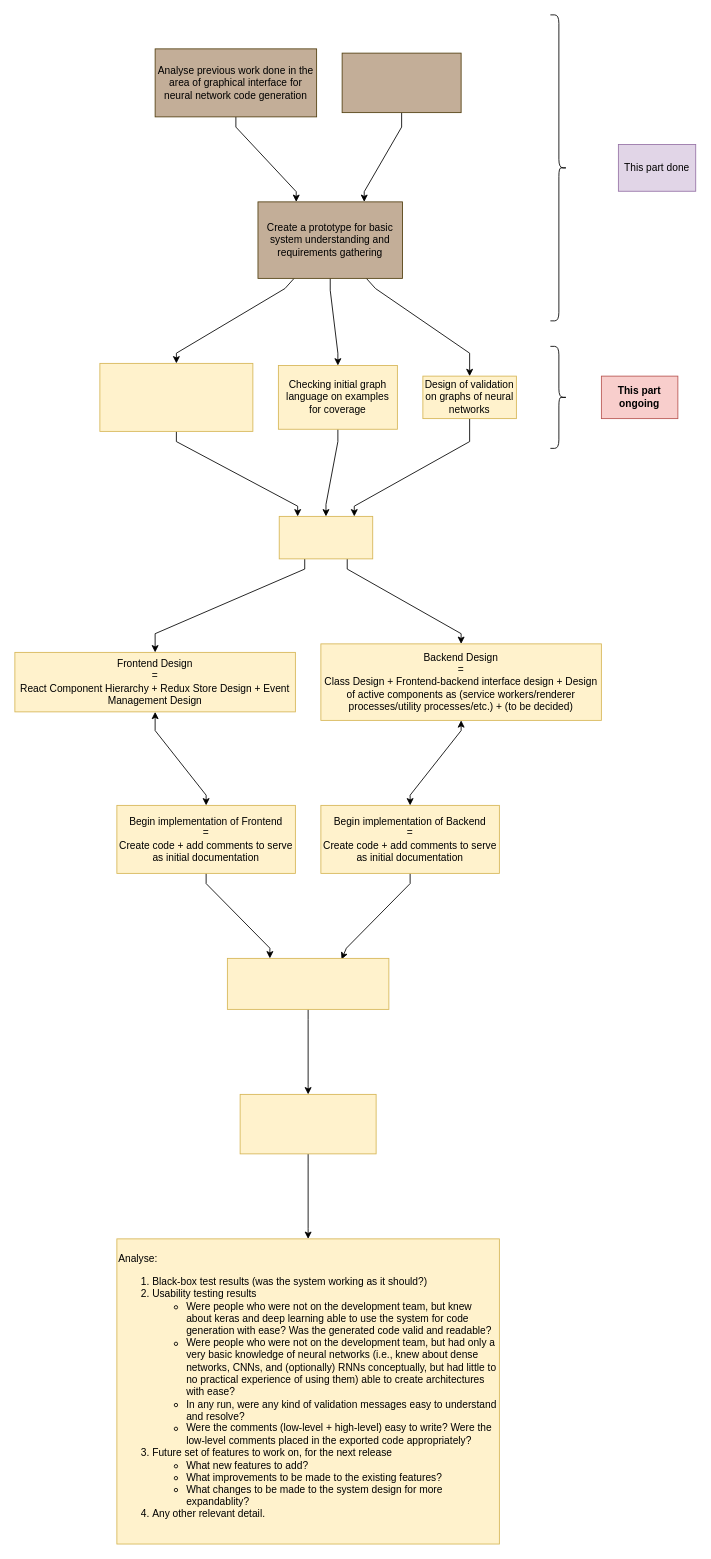
Some shapes in this 711 by 1559 pixel diagram are drawn without their labels. The centre of each missing label's shape, as x and y in pixels:
"Create system-wide documentation for first release" goes at pixel 308 983.
"Decide a very top level and initial set of requirements for the system." goes at pixel 401 82.
"Finalize Set of features for first release" goes at pixel 325 537.
"Test the first release = black-box testing + usability testing" goes at pixel 307 1124.
"UI Design = Main interface design + Tab based internal design" goes at pixel 176 397.
